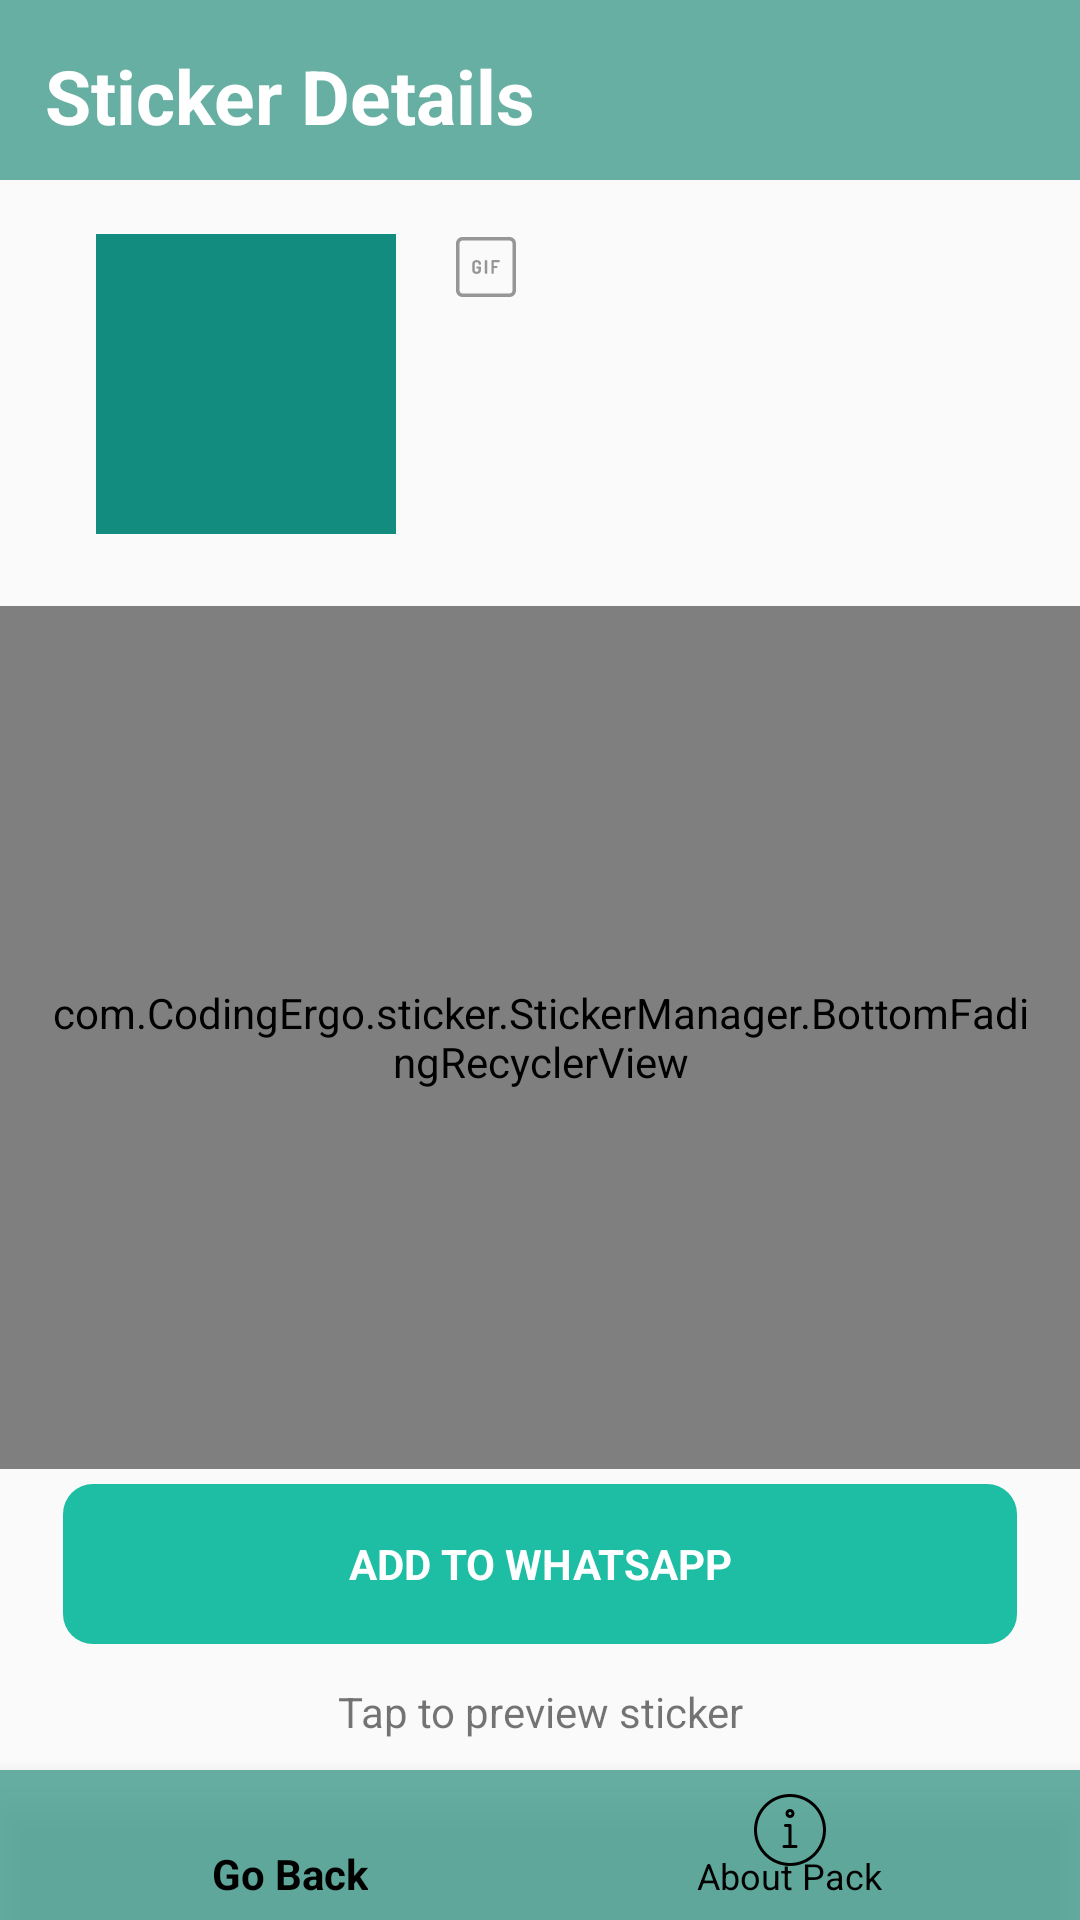

Named icons in this screenshot (1080w x 1920h) and their centers, point (x, y):
Animated sticker pack: point (486, 267)
